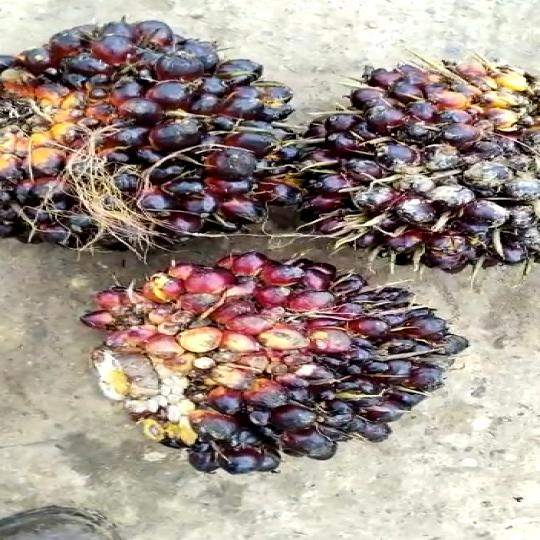kurang masak: (85, 242, 458, 487), (0, 19, 305, 254), (310, 62, 540, 278)
